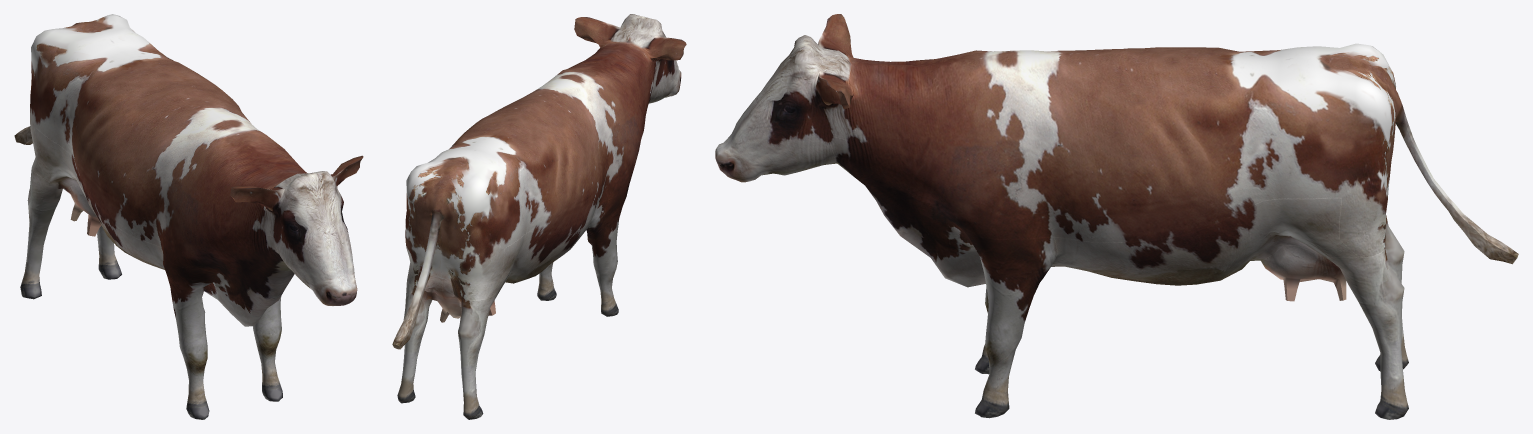
3 renders of one model, left to right at view 1: azimuth 30°, elevation 25°; view 2: azimuth 150°, elevation 25°; view 3: azimuth 270°, elevation 25°, orthographic. The views are drawn at different scales.
Parts seen in each view (by area): view 1: Geode; view 2: Geode; view 3: Geode.
Boxes of the visible parts, bbox=[...] form: Geode: bbox=[14, 14, 363, 419]; Geode: bbox=[392, 14, 686, 419]; Geode: bbox=[715, 14, 1518, 419].
Size of the model in its own units: 7.4 by 14.31 by 29.69.
Materials: 1 (1 with a texture image).
